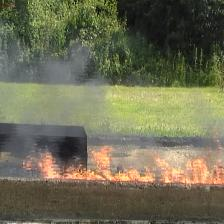fire: (24, 146, 224, 182)
